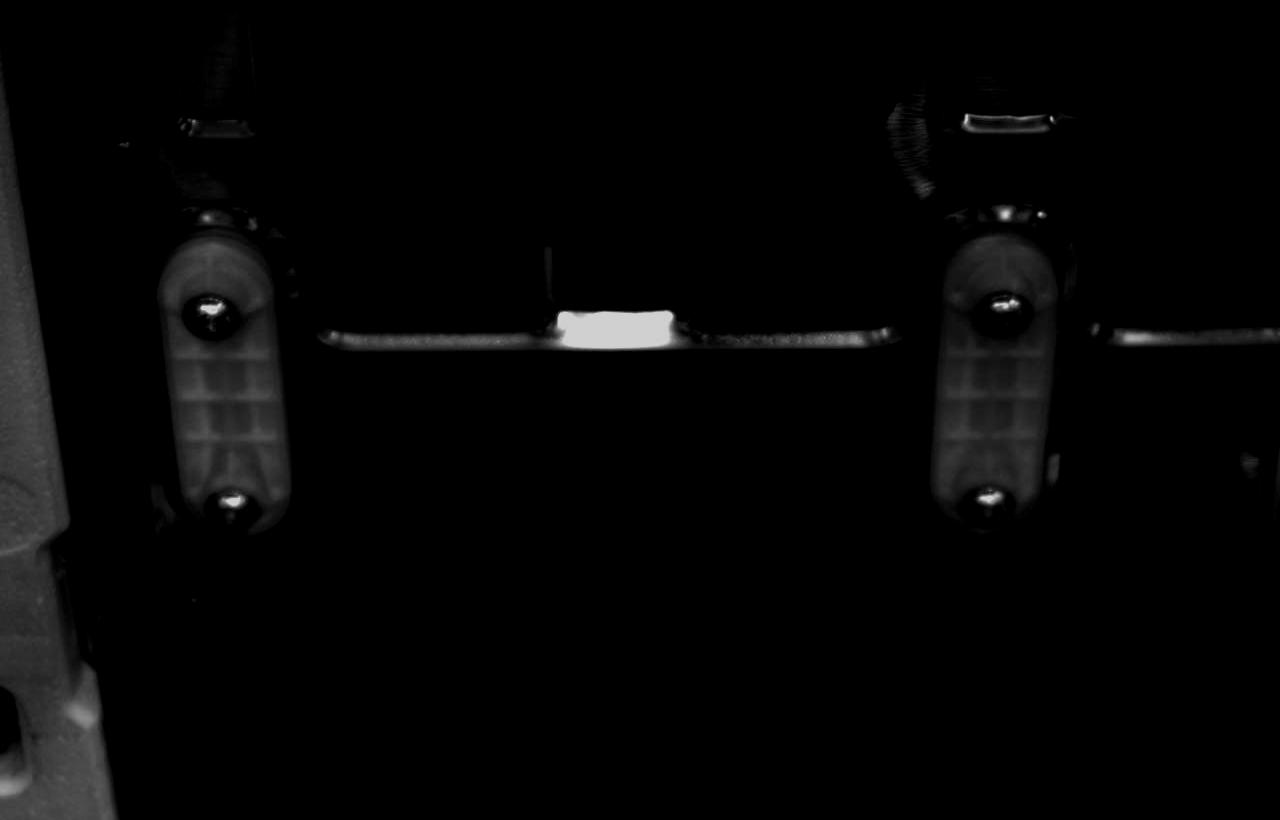vida-ok: (176, 284, 247, 351), (953, 469, 1019, 538), (973, 282, 1040, 349), (203, 475, 269, 534)
